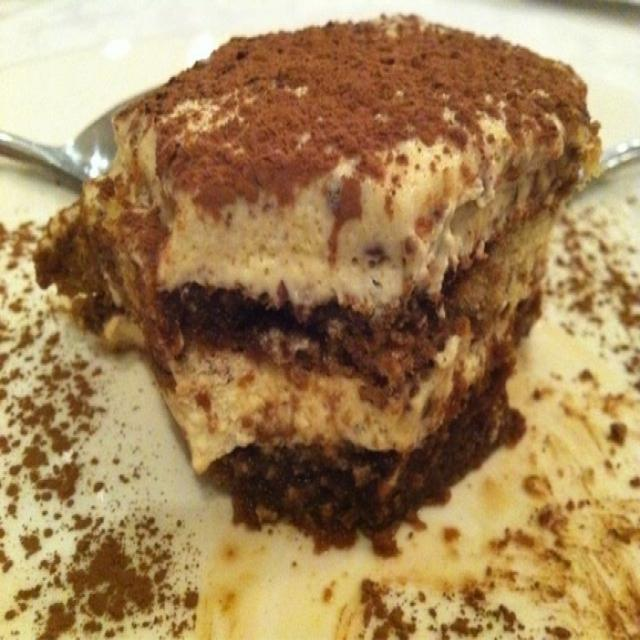蛋糕甜品: (11, 13, 629, 618)
